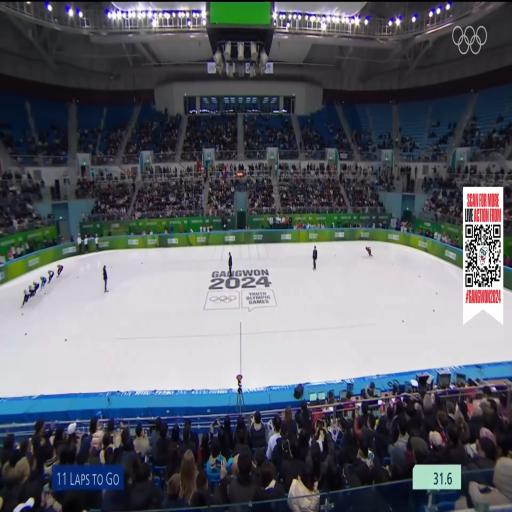Skater: (21, 290, 31, 308), (365, 245, 375, 260), (28, 285, 36, 300), (56, 264, 64, 278), (33, 281, 40, 297), (40, 276, 46, 291), (48, 271, 54, 285)
